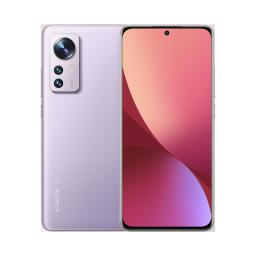Smartphone: (121, 25, 212, 232), (43, 26, 119, 234)
